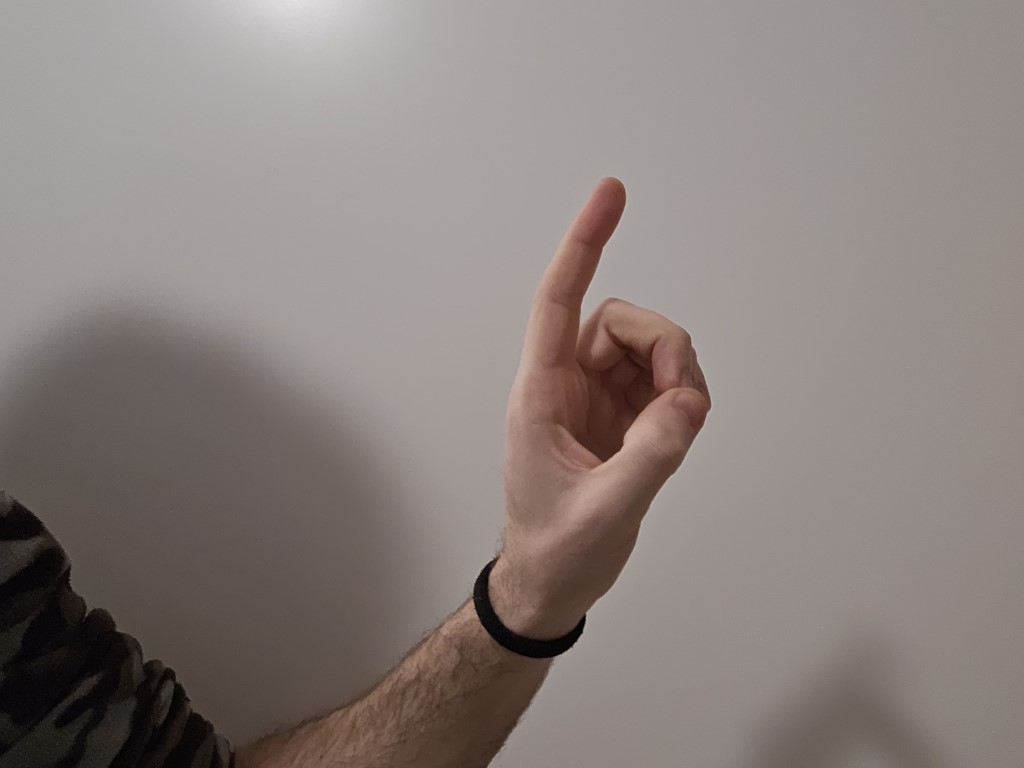d: (481, 160, 735, 599)
